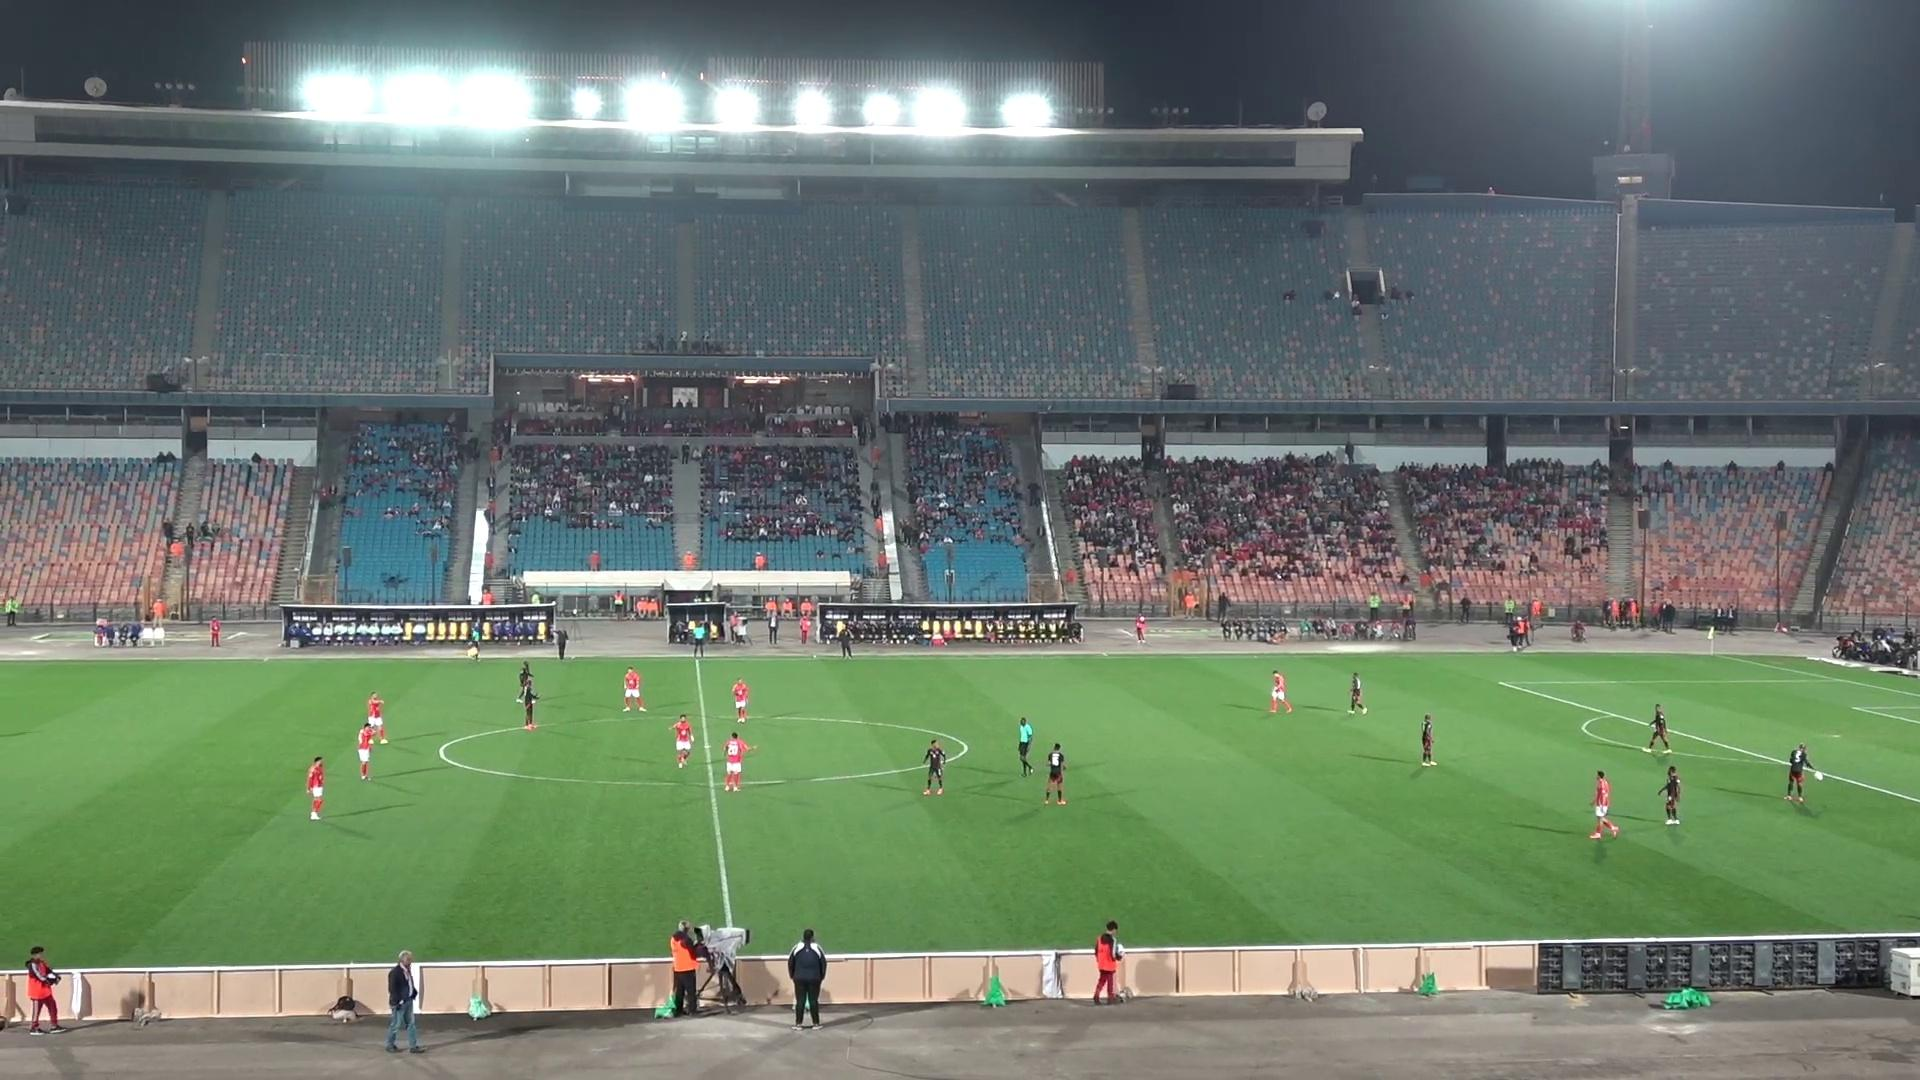Ball: (1812, 767, 1826, 779)
Refree: (1017, 717, 1034, 775), (688, 620, 709, 659), (465, 622, 483, 661)
Team1: (1588, 769, 1619, 837), (721, 732, 756, 793), (303, 756, 326, 820), (1266, 671, 1294, 713), (357, 723, 377, 781), (673, 715, 694, 767), (367, 694, 388, 744), (622, 667, 645, 709), (731, 679, 750, 723)
Team2: (1785, 744, 1812, 803), (923, 738, 949, 795), (1658, 765, 1681, 825), (1642, 704, 1669, 753), (1044, 744, 1067, 803), (520, 669, 539, 731), (1419, 713, 1436, 767), (1346, 673, 1367, 713), (517, 661, 535, 704)
